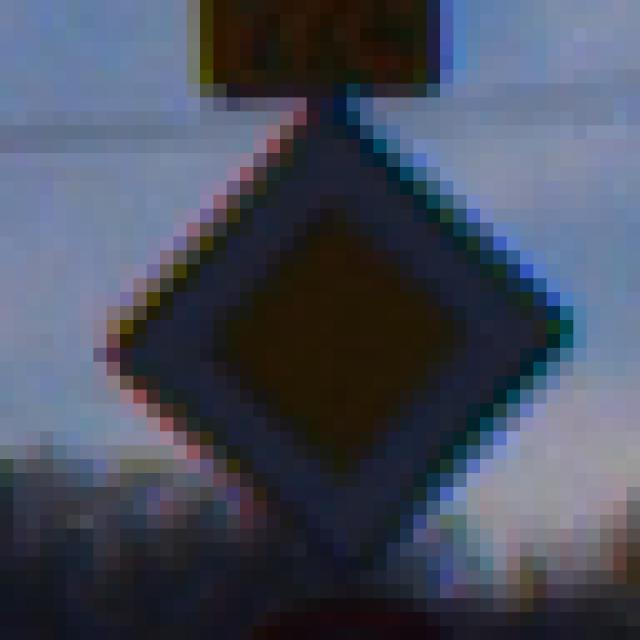Main Road: (81, 85, 574, 572)
